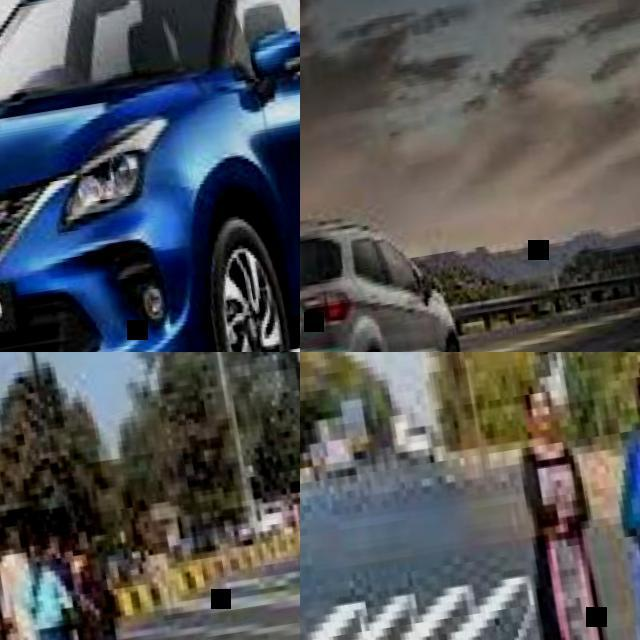car: (1, 0, 300, 352)
